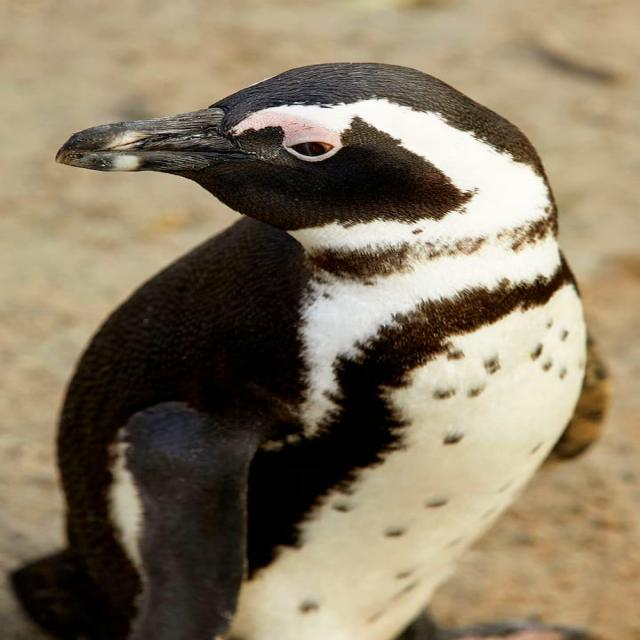penguin: (10, 63, 607, 639)
